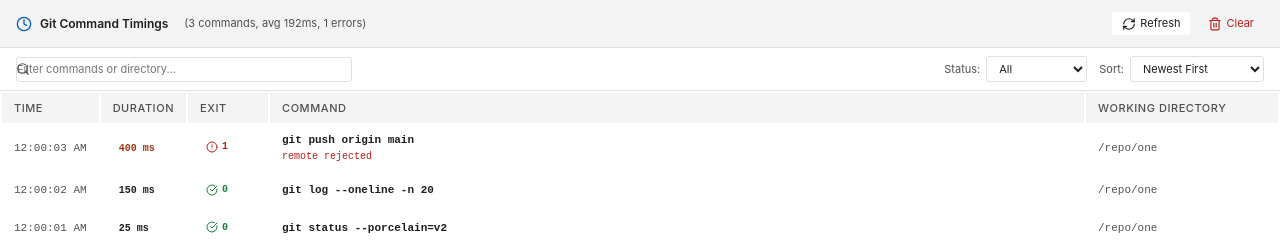
Test: GitTimingsView › filters records by status
// Errors only
Select "Errors" in the dropdown with test id "status-filter" at (1037, 69), box [986,56,1087,82]
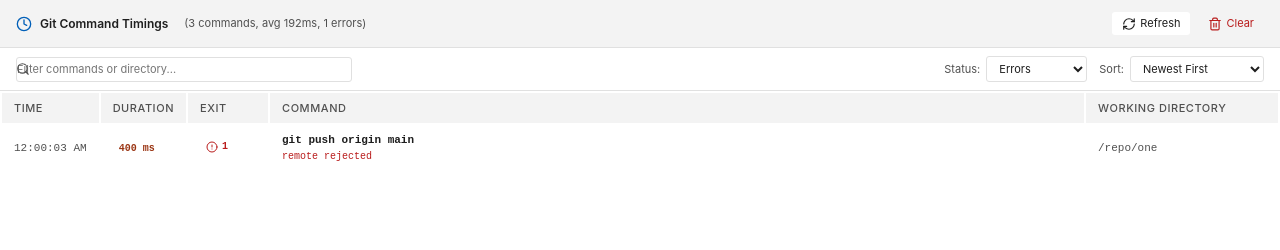
Expected: the text "git push origin main" is shown, [282,134,414,146]
Result: the text "git status --porcelain=v2" is gone
// Success only
Select "Success (0)" in the dropdown with test id "status-filter" at (1037, 69), box [986,56,1087,82]
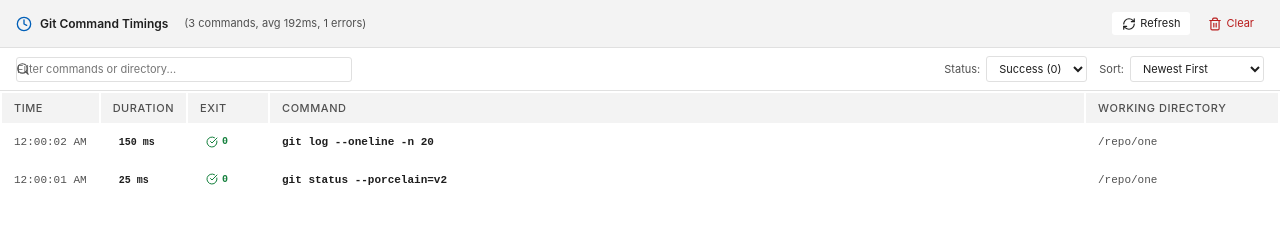
Result: the text "git status --porcelain=v2" is shown at [270,162,1084,198]
Result: the text "git push origin main" is gone
